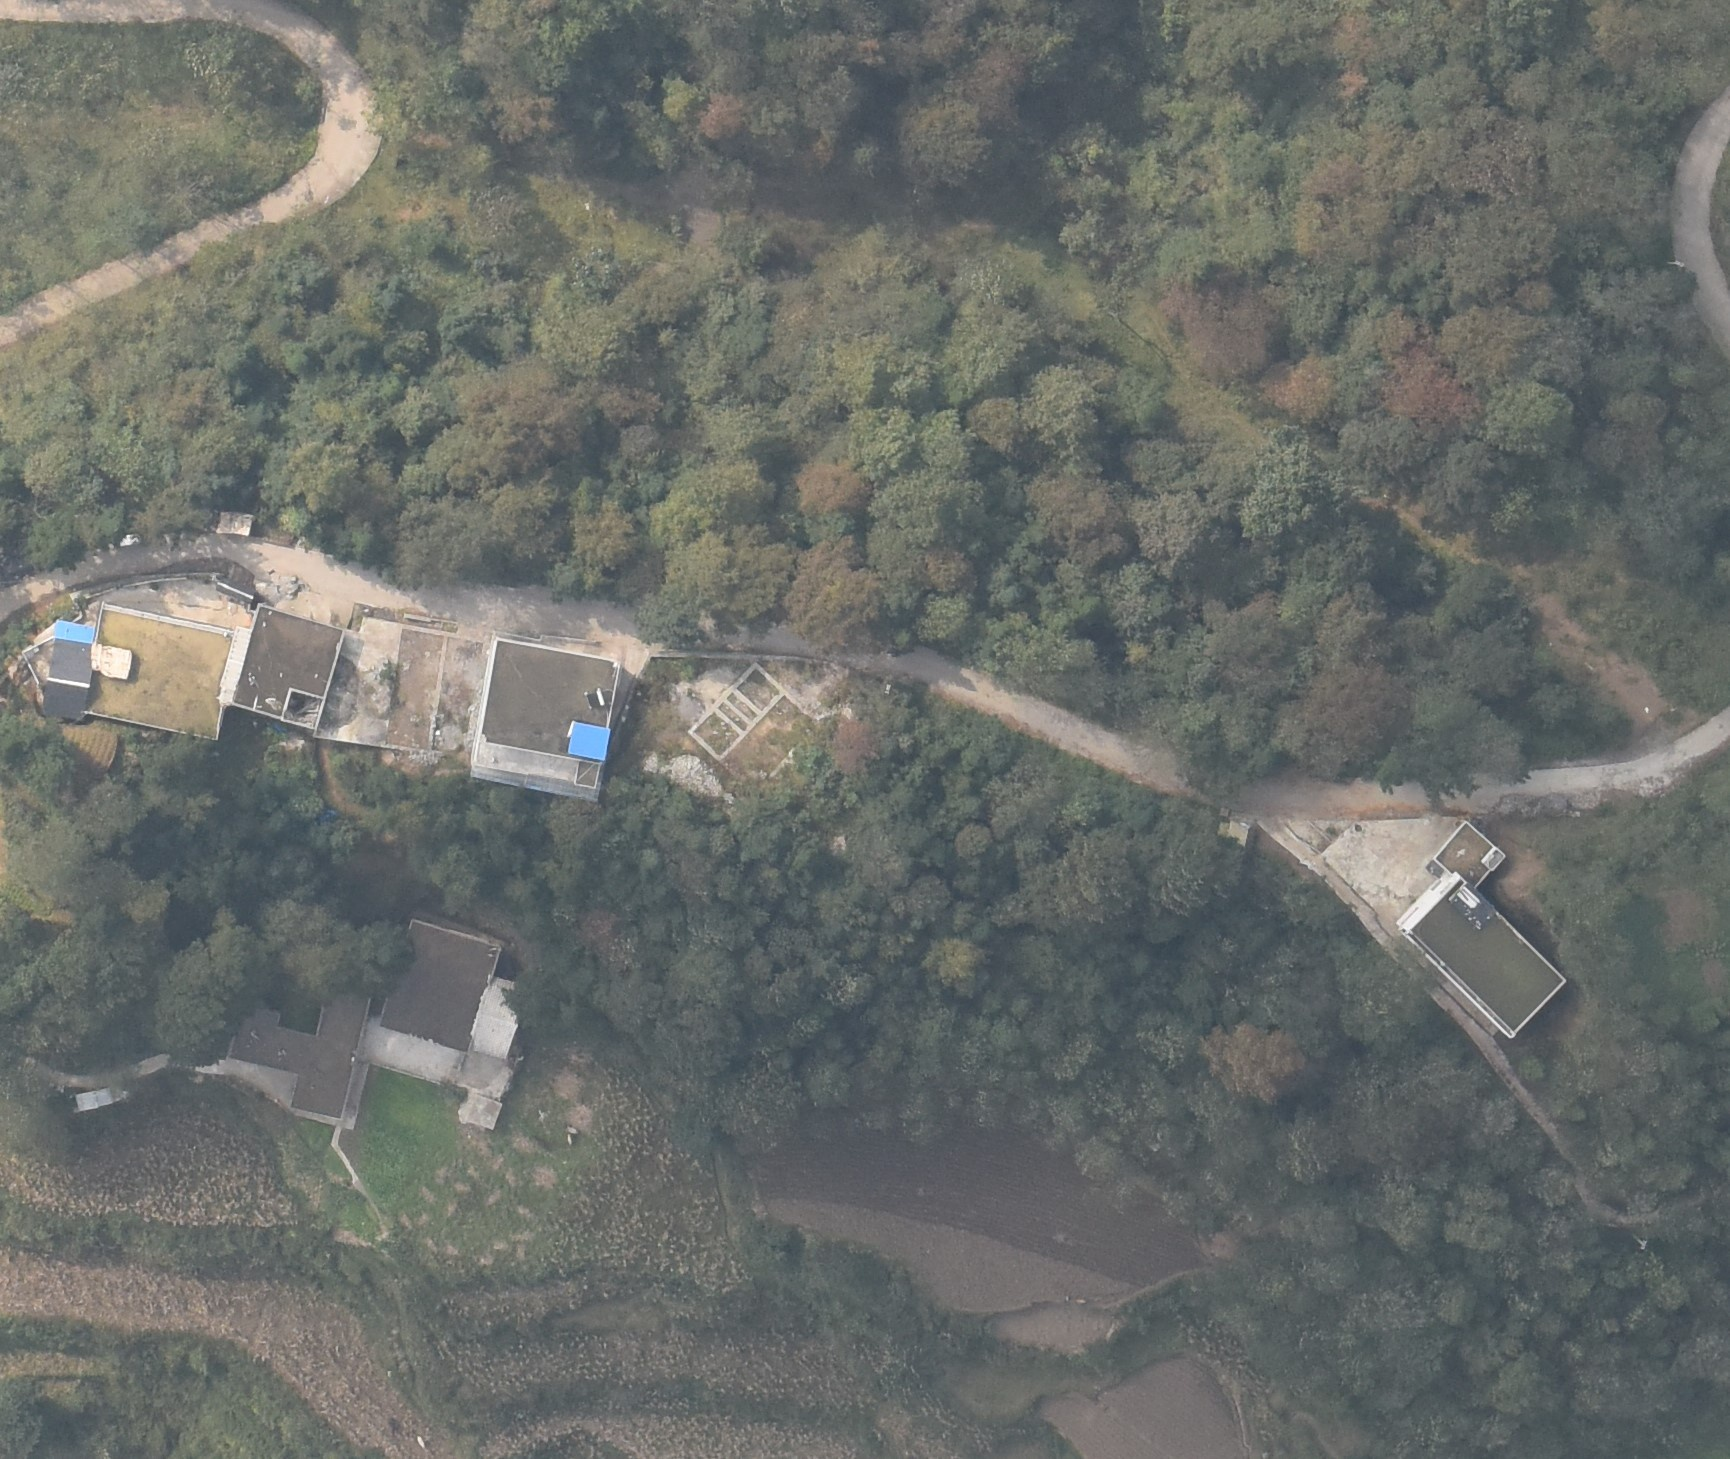building: (466, 638, 622, 791), (86, 605, 232, 743), (230, 602, 347, 731), (43, 638, 92, 713), (212, 510, 253, 534)
prefabricated-house: (1399, 873, 1569, 1038), (229, 989, 374, 1120), (378, 918, 501, 1057), (1434, 821, 1508, 892), (567, 720, 610, 761), (53, 618, 93, 644)
